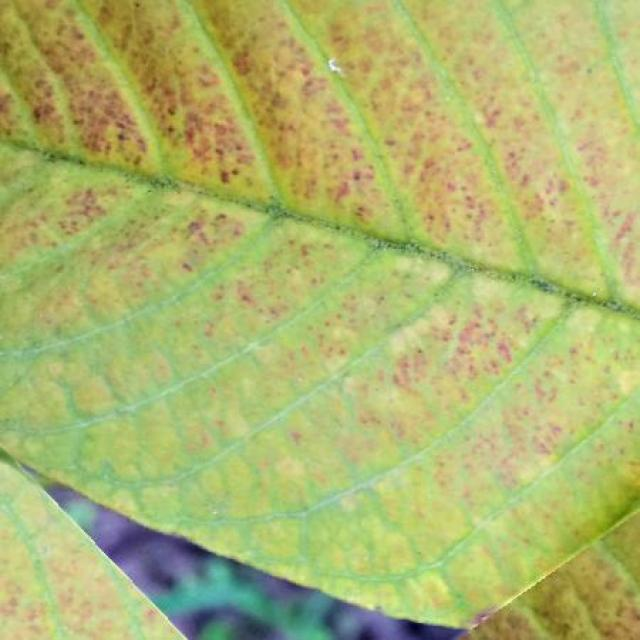Red Rust: (0, 460, 185, 640), (465, 514, 640, 639)
